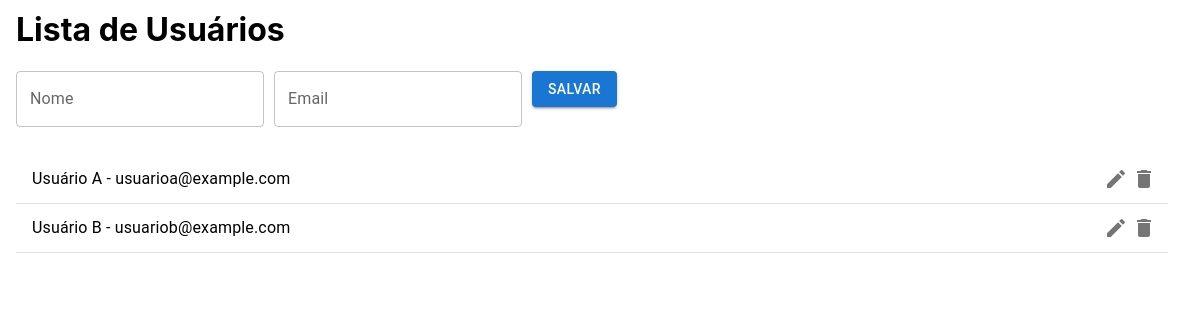
it: edits an existing user
Adiciona um novo usuário
Type "Usuário C" into the field labelled "Nome" at (140, 99), box 16,71 -> 264,127
Type "usuarioc@example.com" into the field labelled "Email" at (398, 99), box 274,71 -> 522,127
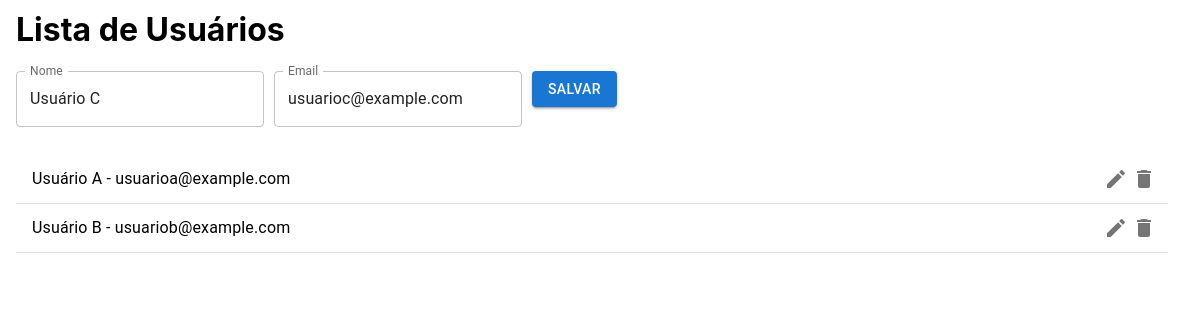
Click the button "Salvar" at (574, 89), box 532,71 -> 617,107
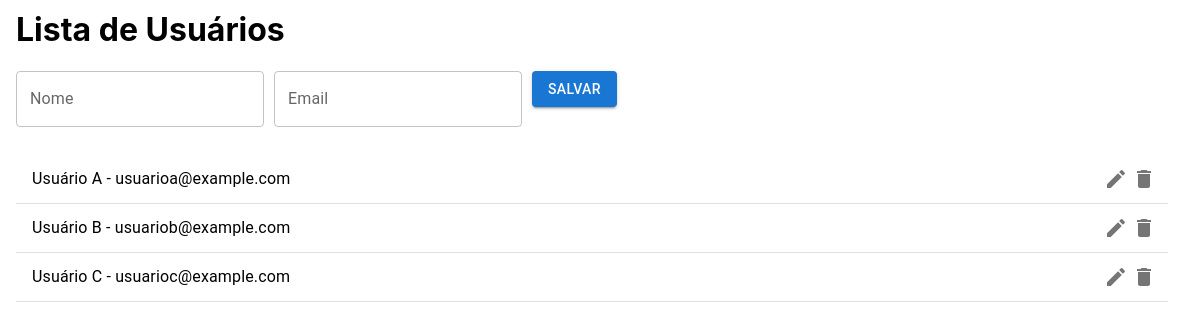
Edita o usuário adicionado
Click the button named "edit" in the row of "Usuário A - usuarioa@example.com" at (1116, 179), box 1096,159 -> 1136,199
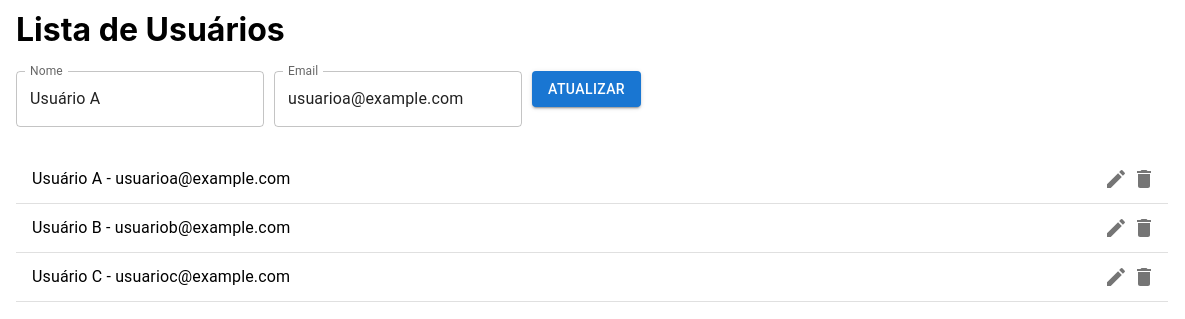
Replace the text in the field labelled "Nome" with "Usuário D" at (140, 99), box 16,71 -> 264,127
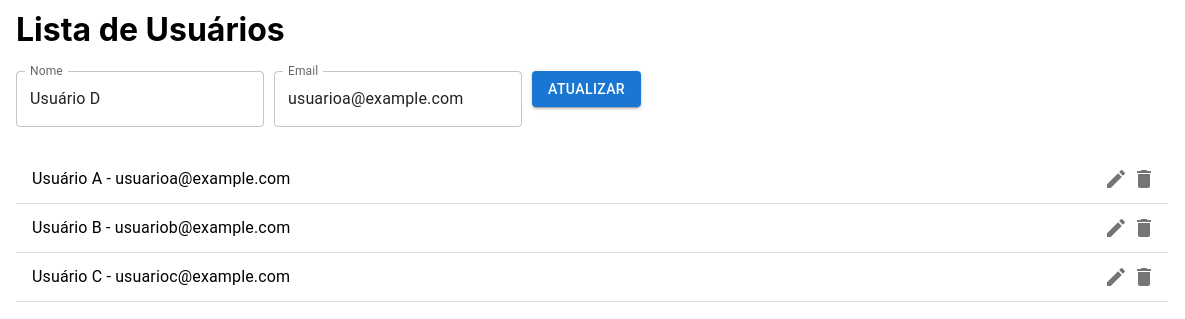
Replace the text in the field labelled "Email" with "usuariod@example.com" at (398, 99), box 274,71 -> 522,127
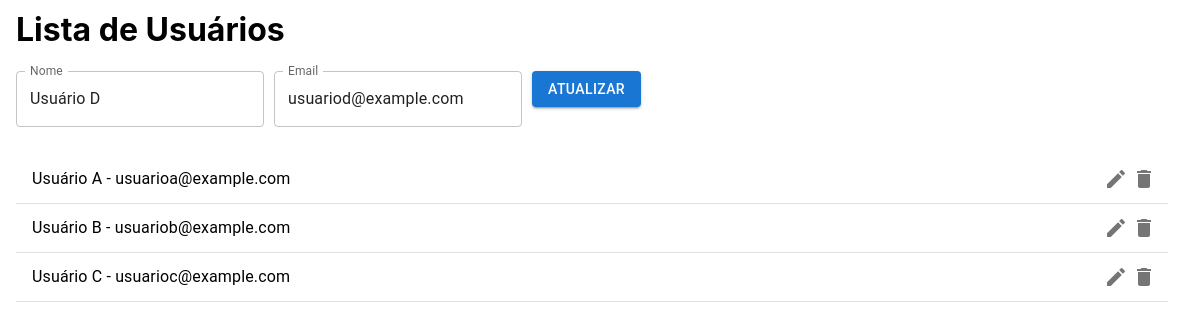
Click the button "Atualizar" at (586, 89), box 532,71 -> 641,107
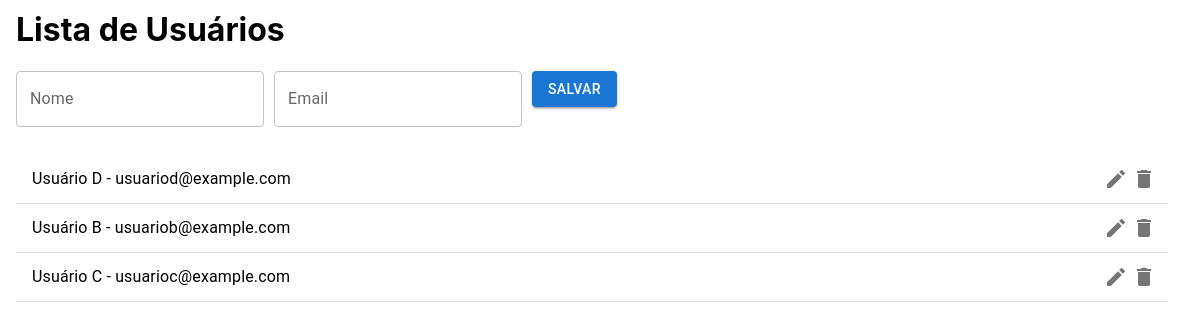
Expected: the text "Usuário D - usuariod@example.com" is shown, 32,169 -> 291,188
